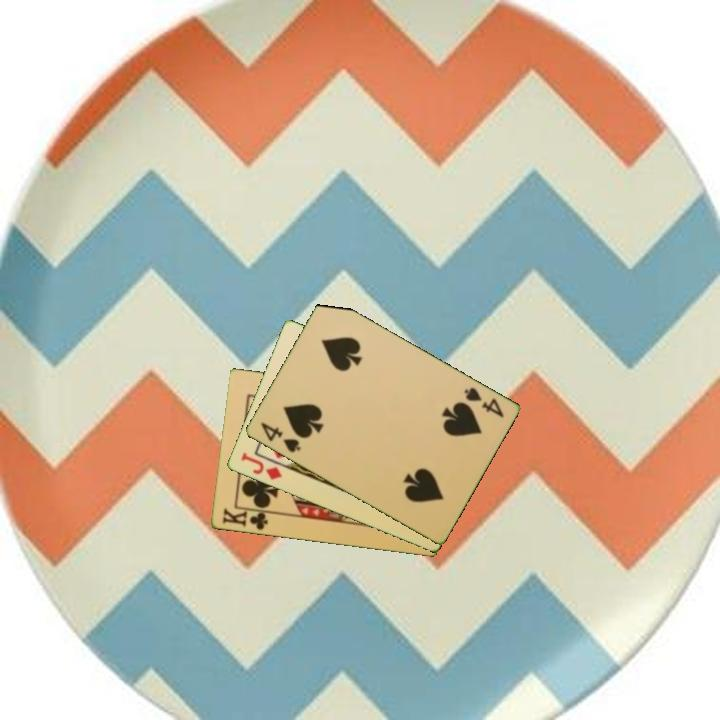4s: (257, 418, 303, 456), (460, 384, 507, 421)
Jd: (237, 449, 285, 483)
Kc: (218, 505, 274, 533)
